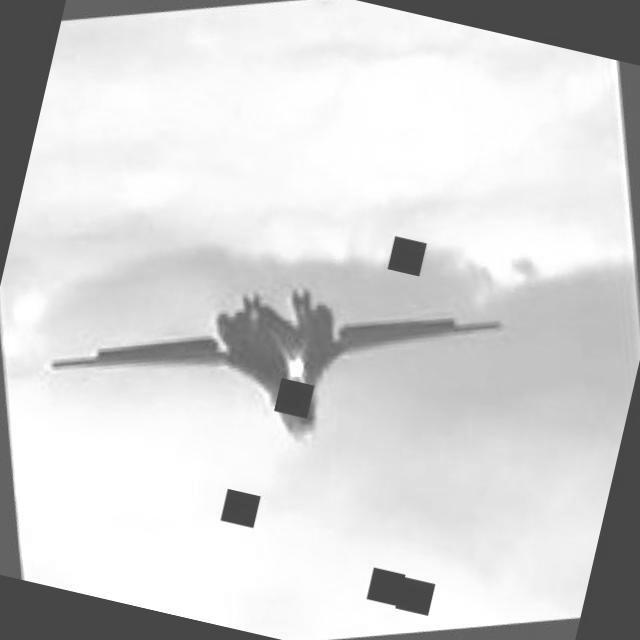aeroplane: (48, 223, 510, 481)
